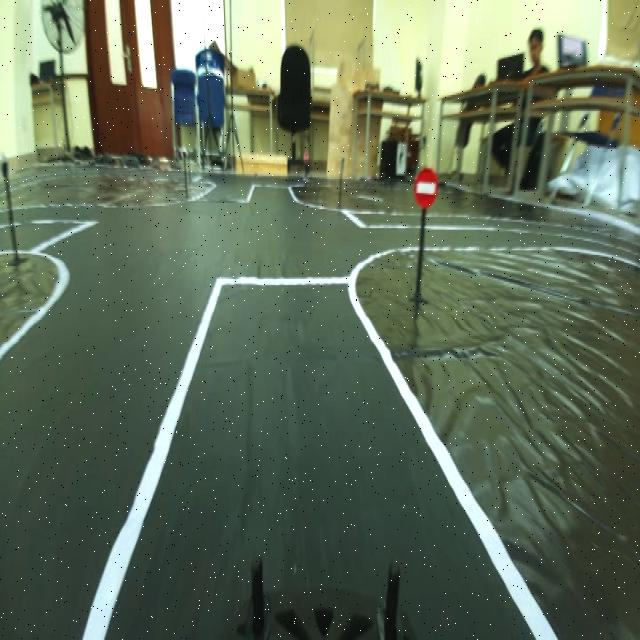no_entry: (411, 158, 441, 216)
